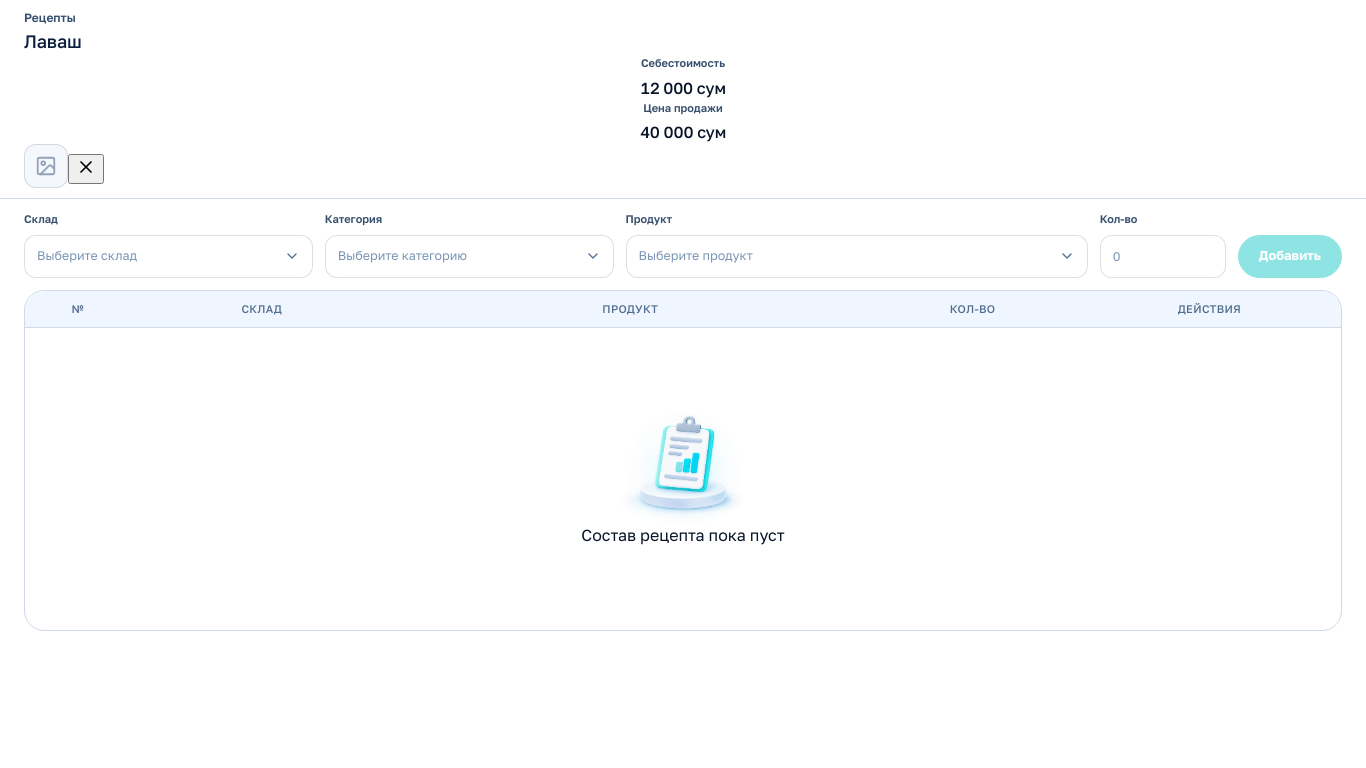
Test: Dishes recipes composition › lists only active raw products
Expected: the text "Состав рецепта пока пуст" is shown, [581, 525, 785, 547]
What coordinates should you click on to do the following:
click the dropdown labelled "продукт"
I would click on:
 (696, 255)
Its box is [626, 234, 1088, 278].
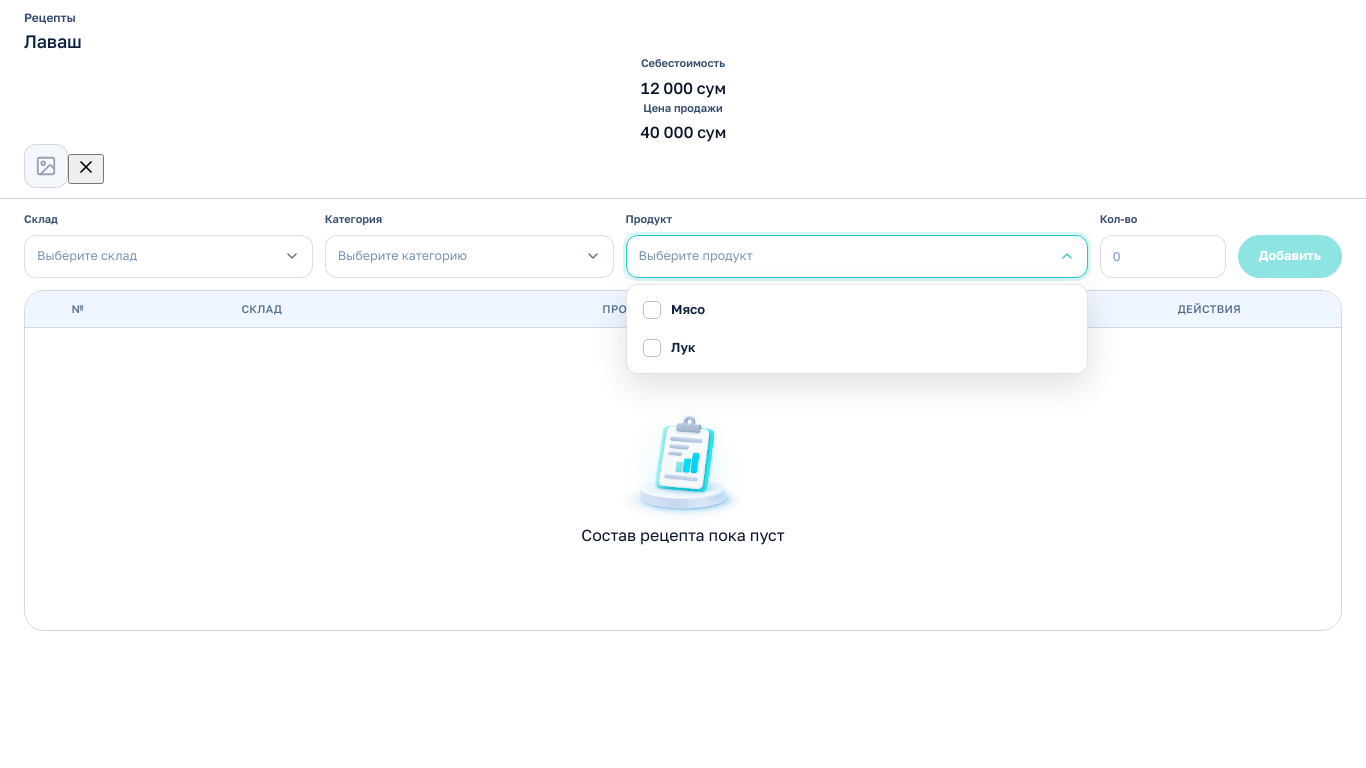
Expected: the option "Лук" is shown, [633, 328, 1081, 366]
